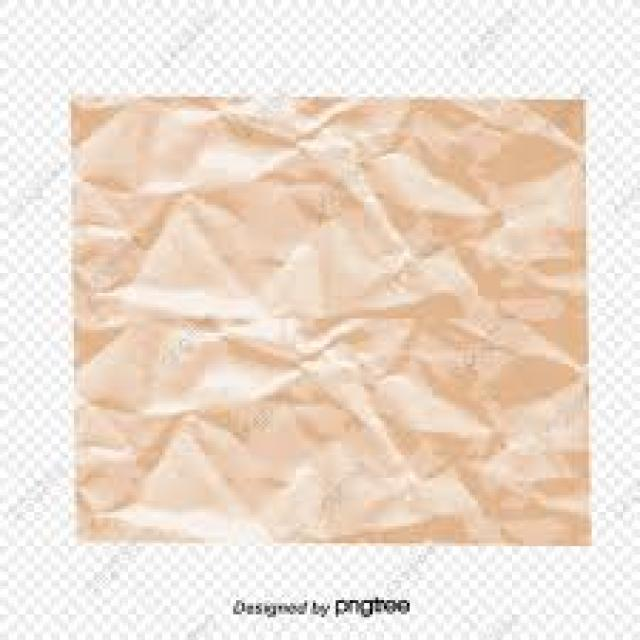paper: (65, 91, 589, 543)
